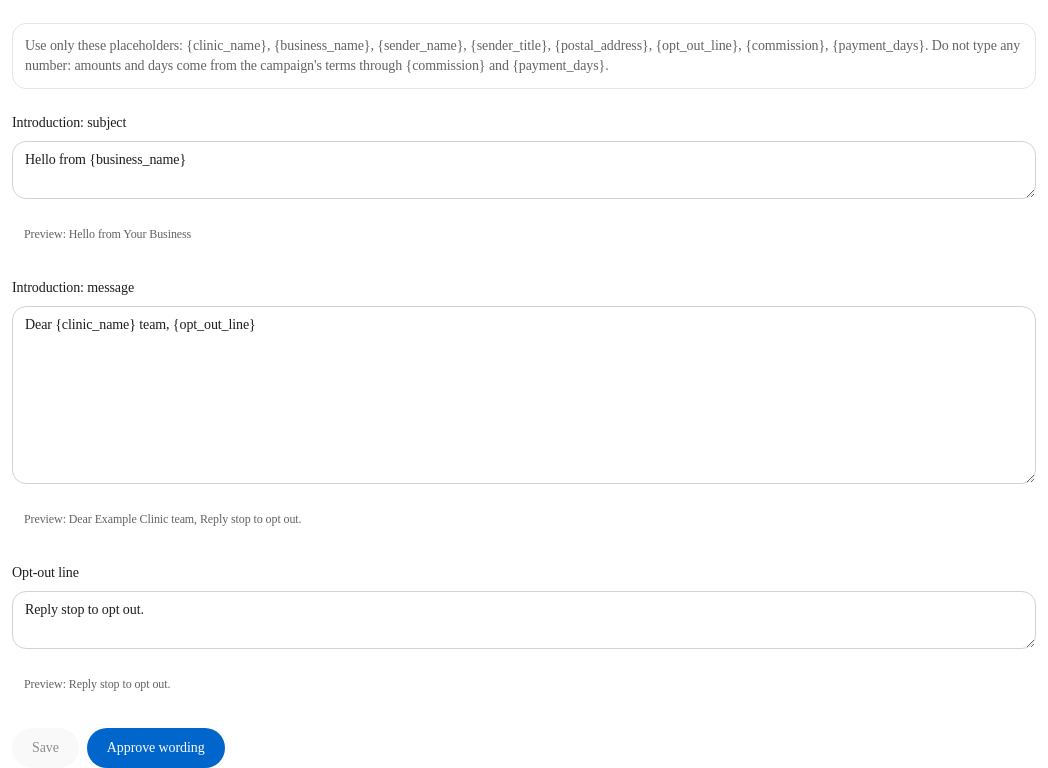
Test: OutreachWording › needs confirmation to approve and then shows the approved banner
(page scrolled)
Click the button "Approve wording" at (156, 748), box [87,728,224,767]
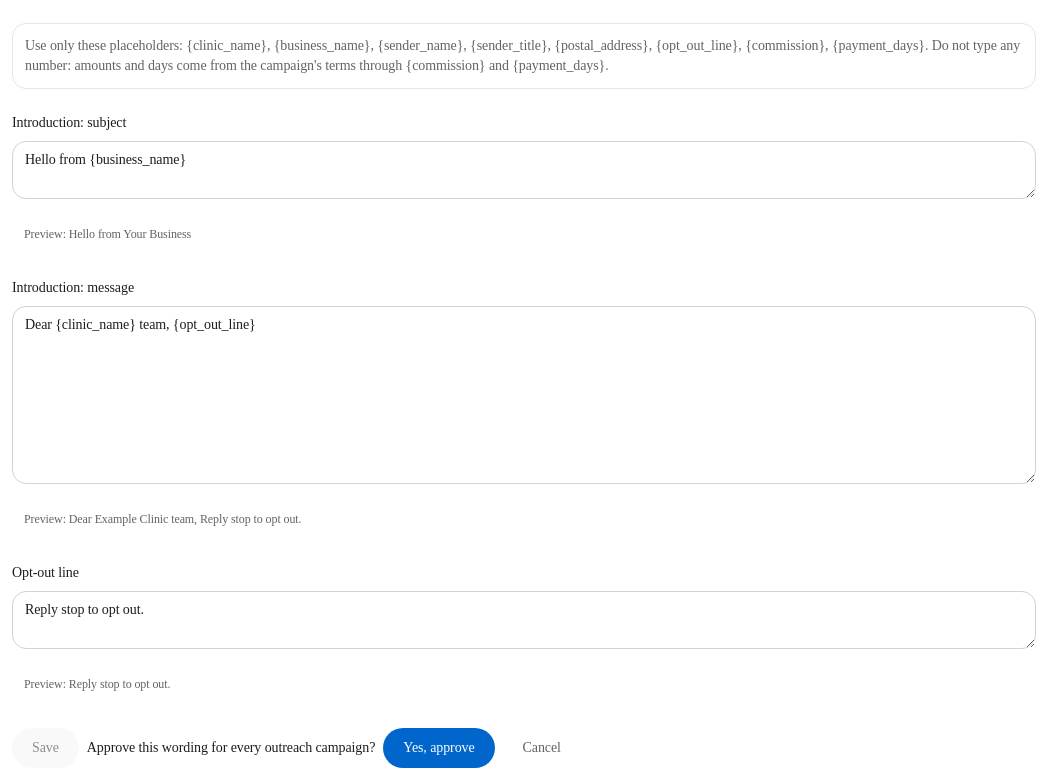
Click the button "Yes, approve" at (439, 748), box [383,728,495,767]
(page scrolled)
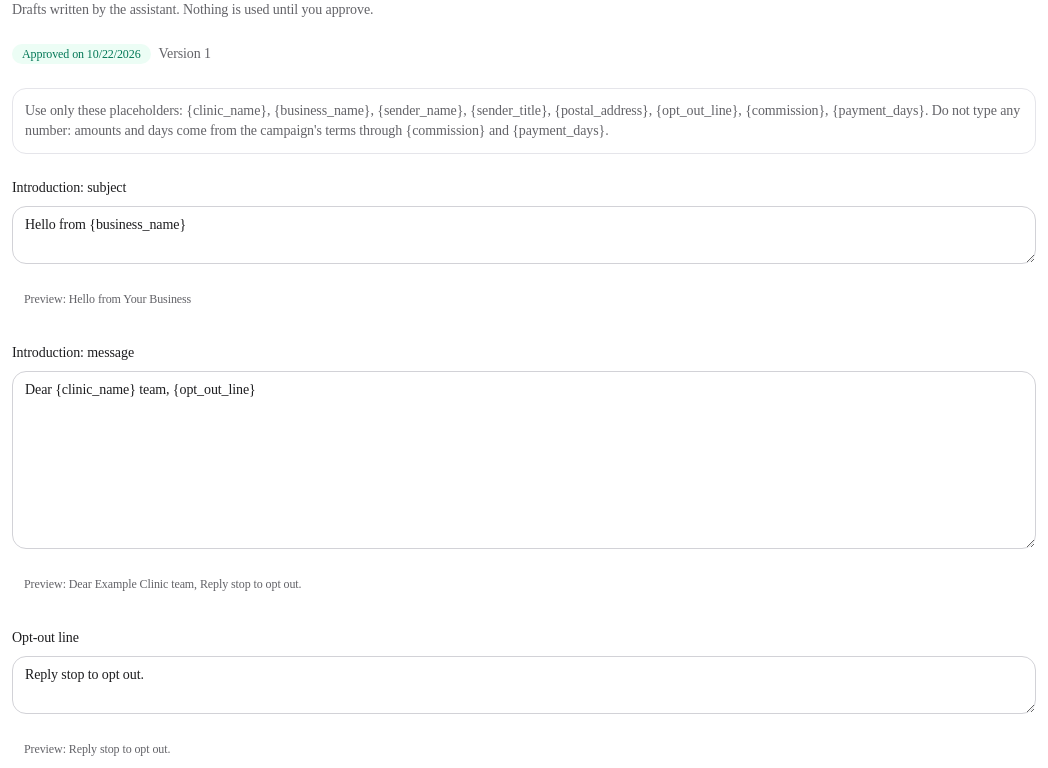
Expected: the text "Approved on 10/22/2026" is shown, [12,44,151,64]
